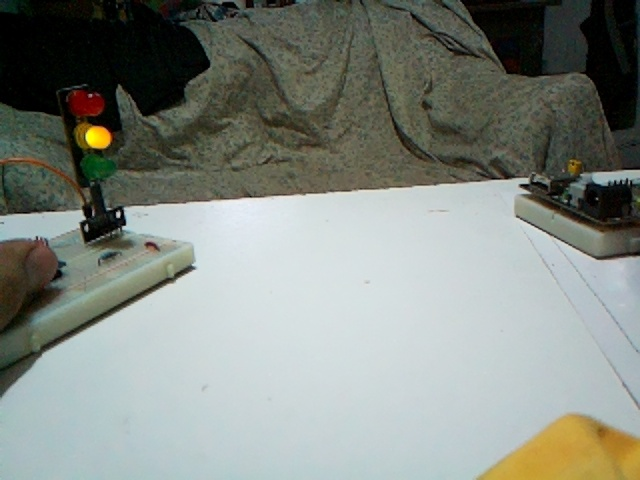traffic_light_yellow: (57, 83, 126, 238)
